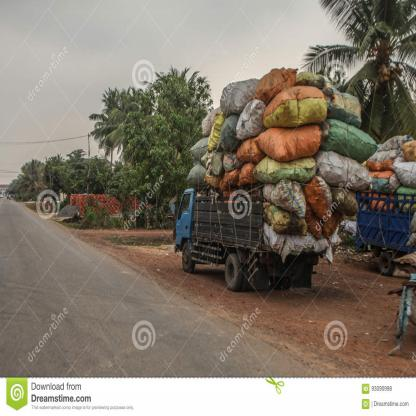overloaded-truck: (186, 77, 375, 286)
